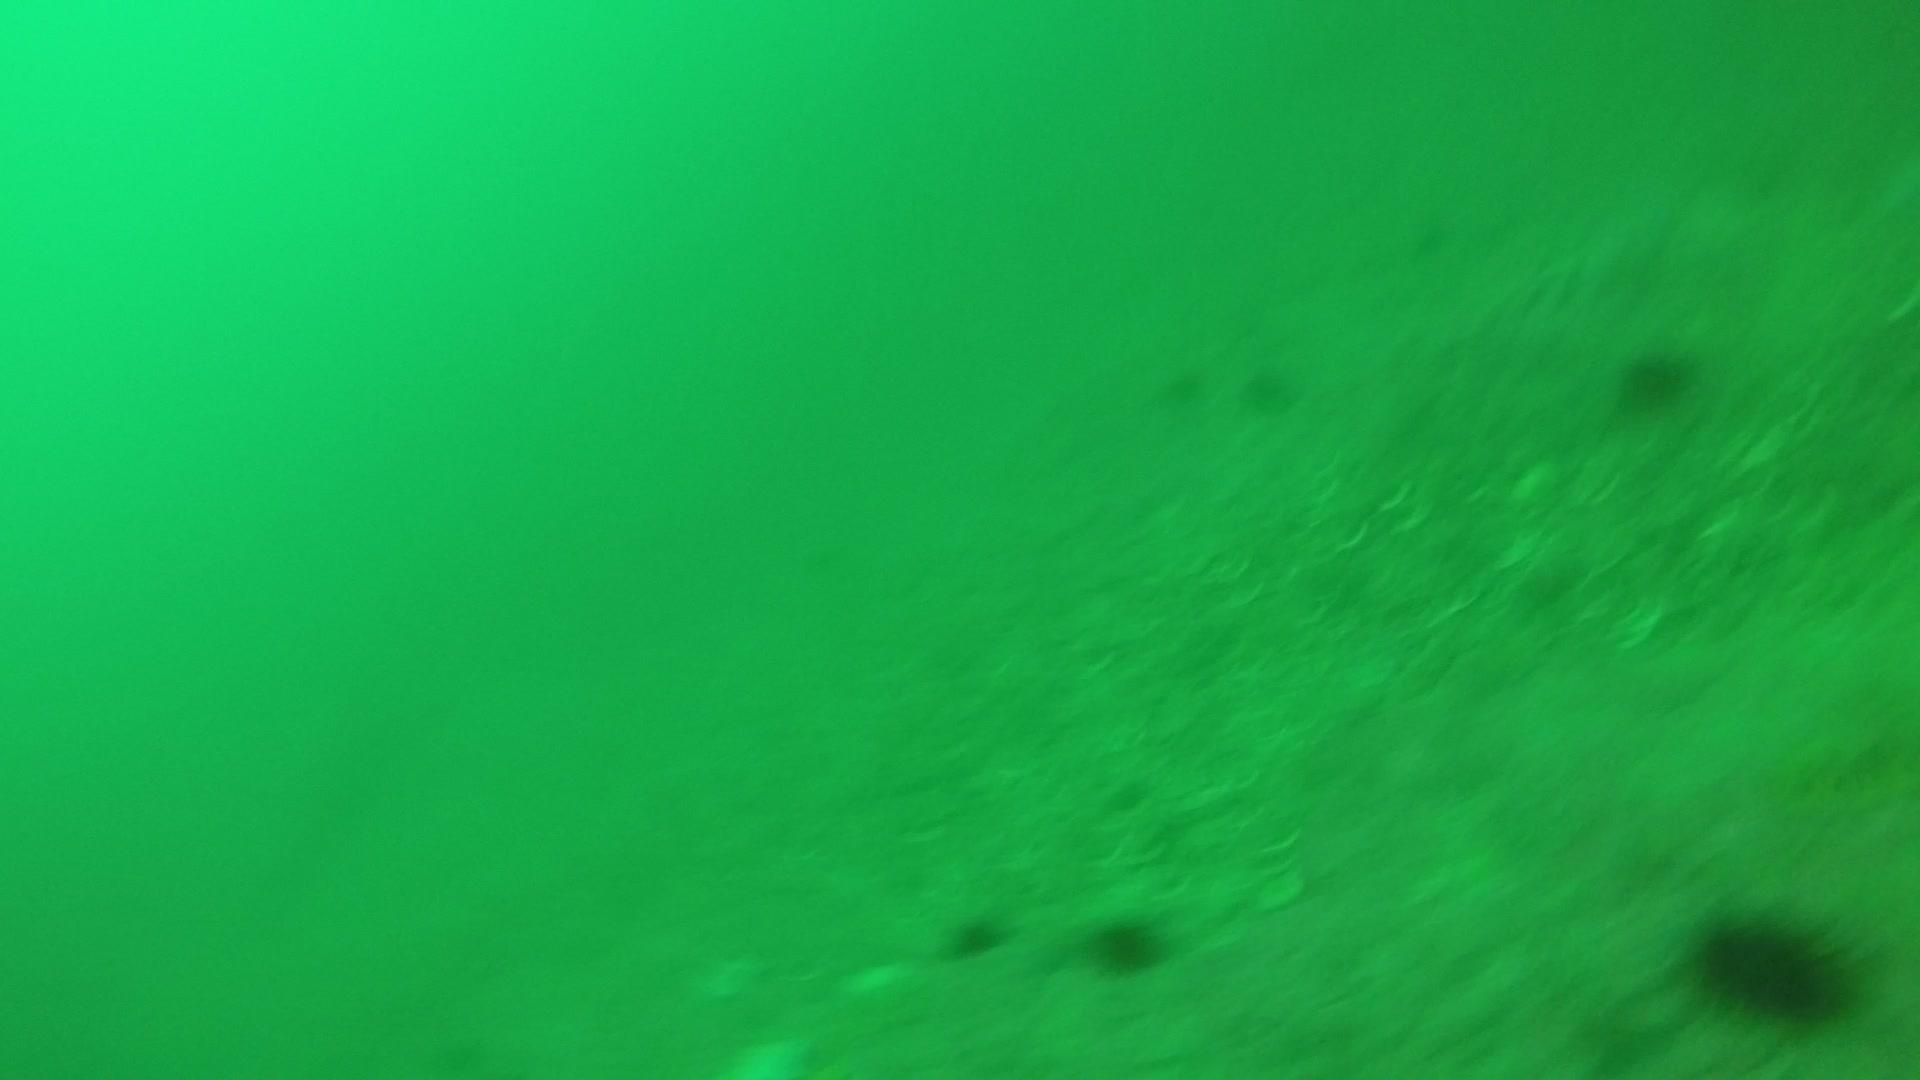echinus: (1689, 905, 1862, 1026), (1615, 339, 1698, 411), (1085, 909, 1168, 978), (942, 907, 1009, 963), (1238, 359, 1302, 415), (1155, 360, 1209, 410)
